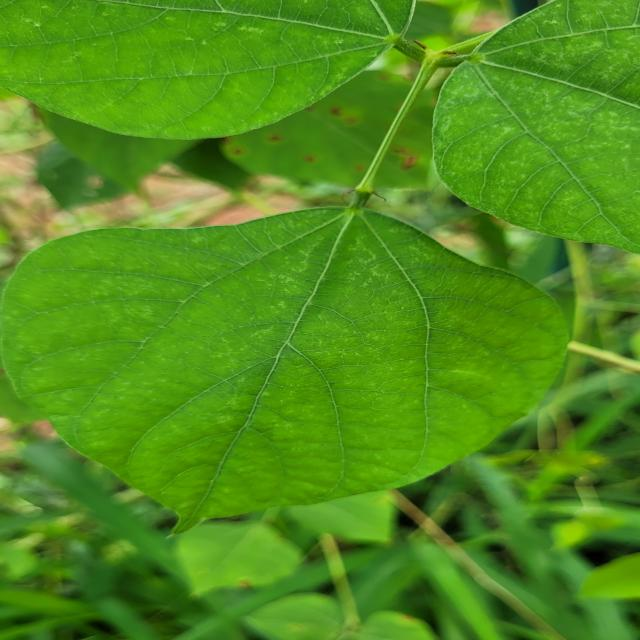Dolicos bean_cercospora leaf spot: (218, 37, 452, 196)
Dolicos bean_healthy: (0, 198, 571, 531), (0, 0, 421, 143), (418, 0, 640, 243)
